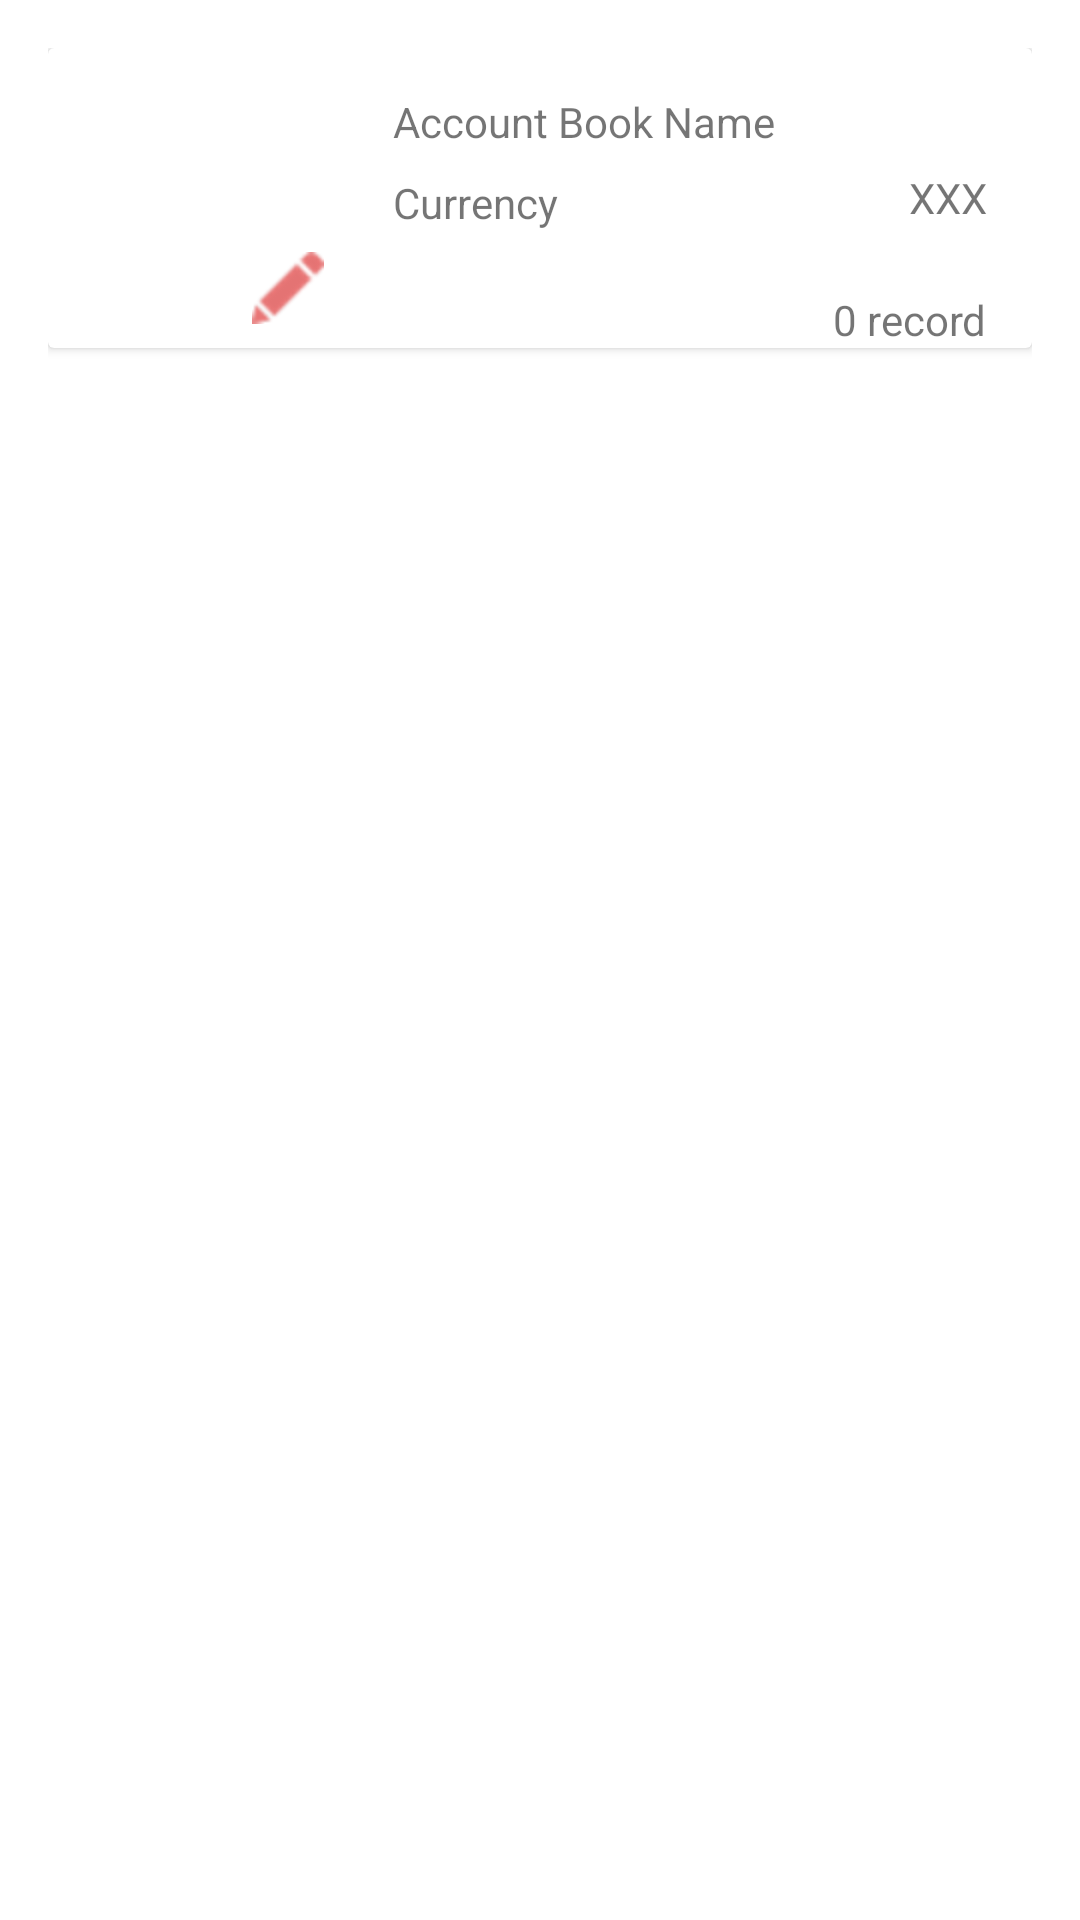

Icon bounding boxes for this 1080w x 1920h phone screenshot, format {"left": x1, "top": y1, "right": x2, "bottom": y2}:
edit: {"left": 252, "top": 252, "right": 324, "bottom": 324}
